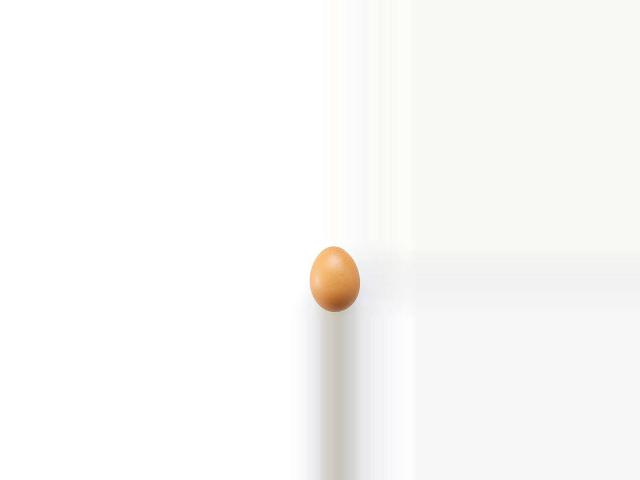egg: (310, 246, 360, 312)
